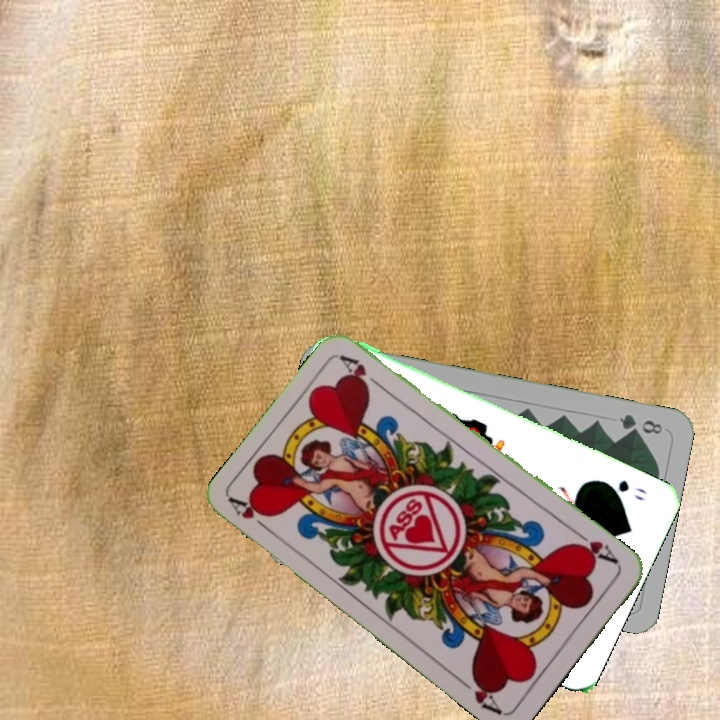G8: (615, 410, 665, 437)
GO: (597, 476, 650, 504)
HA: (567, 527, 622, 567), (226, 494, 277, 537)
